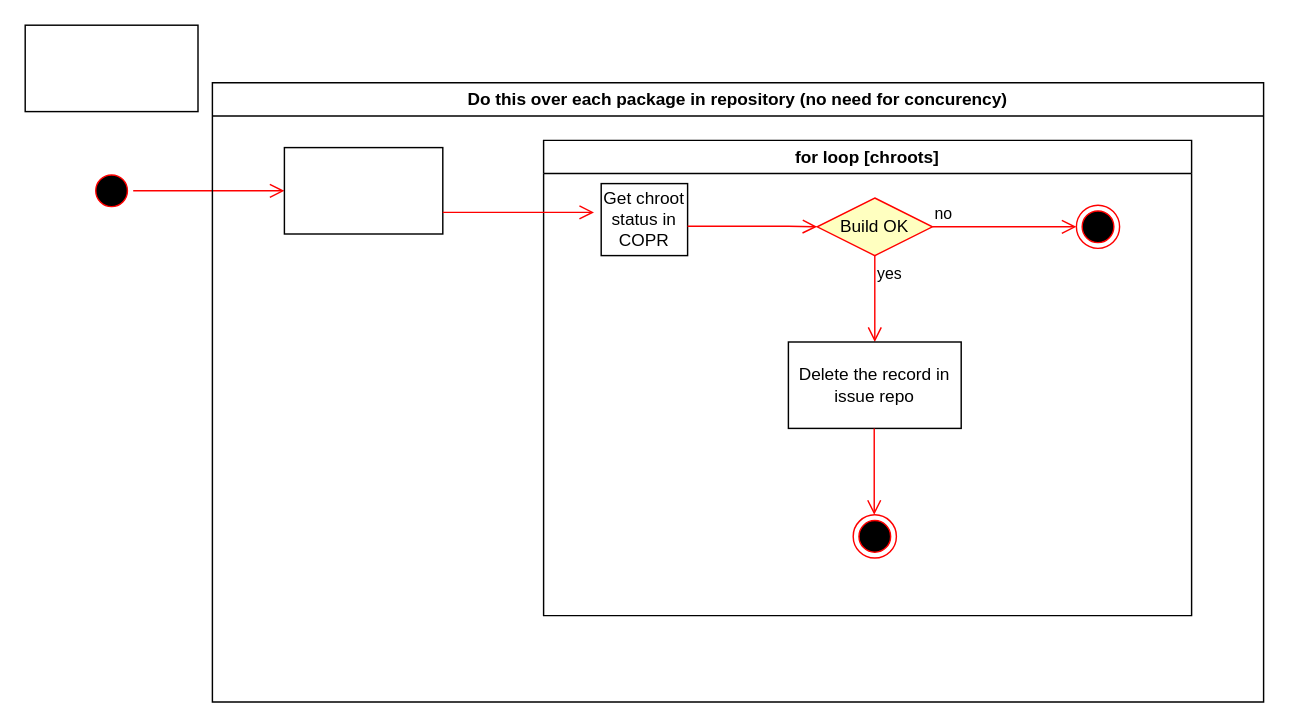
Some shapes in this 1289 by 727 pixel diagram are drawn without their labels. The shapes that lost their labels are listed below. From the top down, each one's box as (x1, y1, x2, y2) in pixels, then its label:
(24, 24, 198, 112): Cleaner will periodically clean the issue repository
(283, 146, 443, 234): Check notify_on chroots
